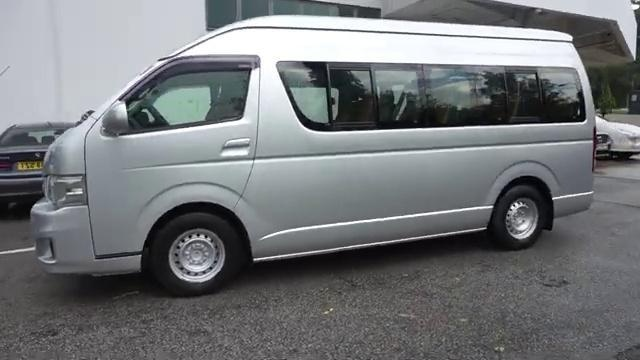van: (27, 22, 600, 285)
